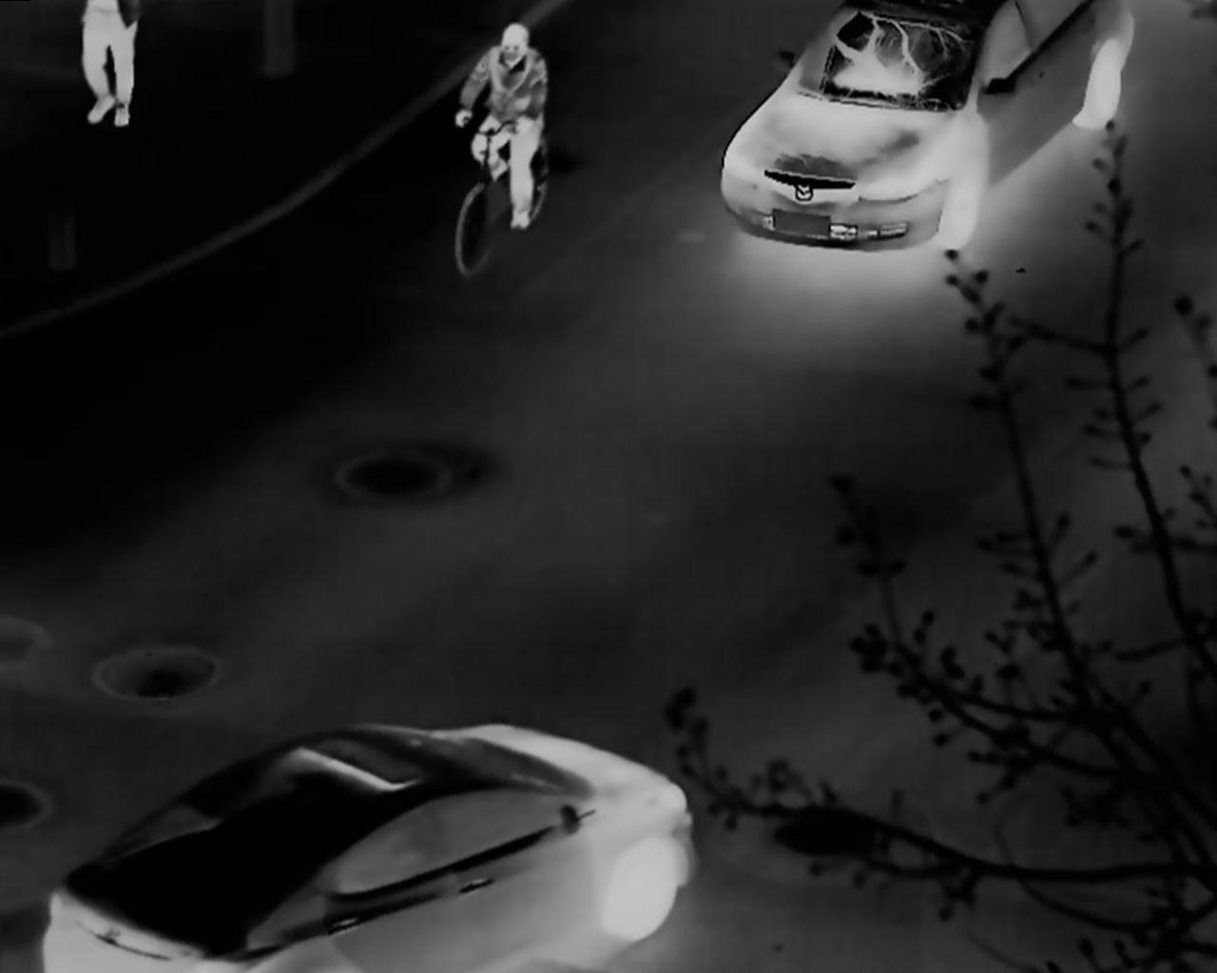person: (454, 23, 550, 232)
